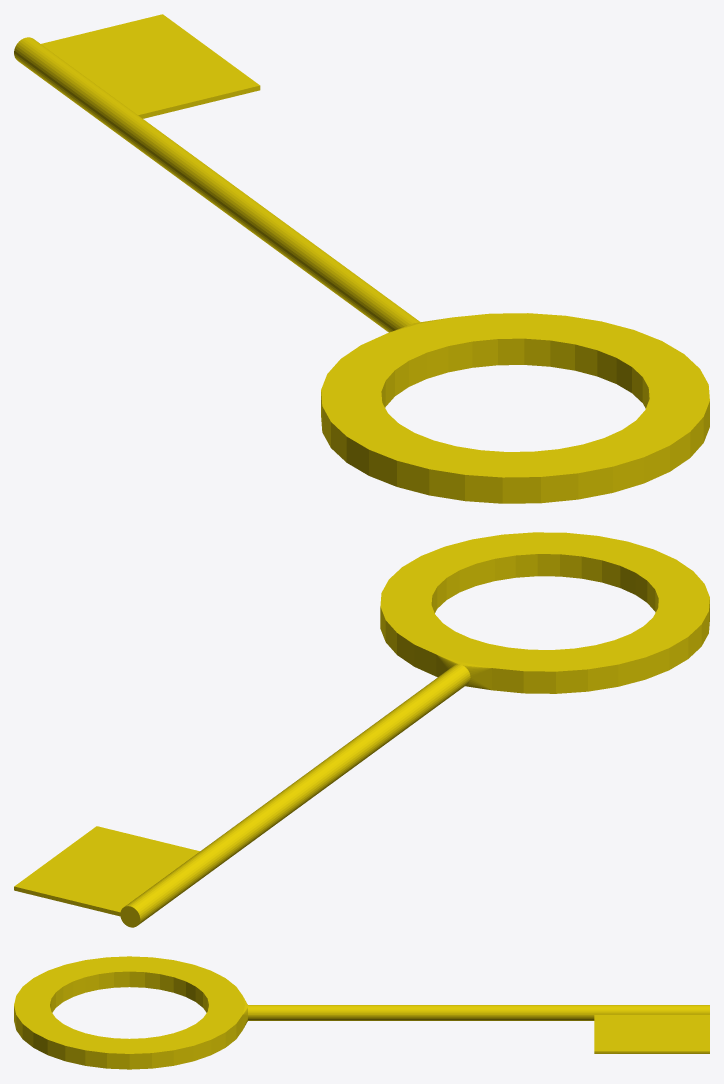
The model's file is key.fbx.
3 views of the same model, one above another, from view 1: azimuth 30°, elevation 25°; view 2: azimuth 150°, elevation 25°; view 3: azimuth 270°, elevation 25° (orthographic). The views are drawn at different scales.
Parts seen in each view (by area): view 1: Cylinder; view 2: Cylinder; view 3: Cylinder.
Part boxes in pixels (left/top/right/bottom): Cylinder: left=14, top=14, right=709, bottom=503; Cylinder: left=14, top=532, right=709, bottom=927; Cylinder: left=14, top=956, right=709, bottom=1069.
Size of the model in its own units: 10 by 0.7441 by 30.13.
